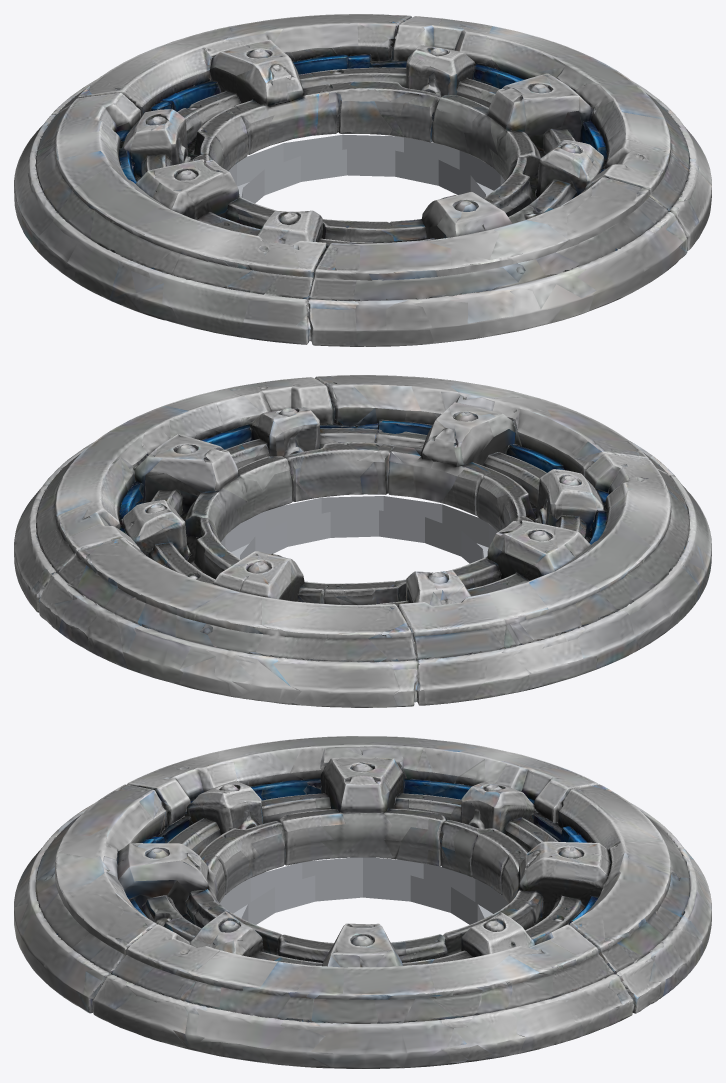
The model's file is orbit.glb.
3 renders of one model, top to bottom at view 1: azimuth 30°, elevation 25°; view 2: azimuth 150°, elevation 25°; view 3: azimuth 270°, elevation 25°, orthographic.
Visible parts, largest first — view 1: mesh_node; view 2: mesh_node; view 3: mesh_node.
Part boxes in pixels (x1,y1,x2,y2): mesh_node: [14, 14, 711, 346]; mesh_node: [14, 375, 711, 707]; mesh_node: [14, 736, 711, 1068].
Size of the model in its own units: 48.31 by 7.72 by 48.31.
Materials: 2 (1 with a texture image).
